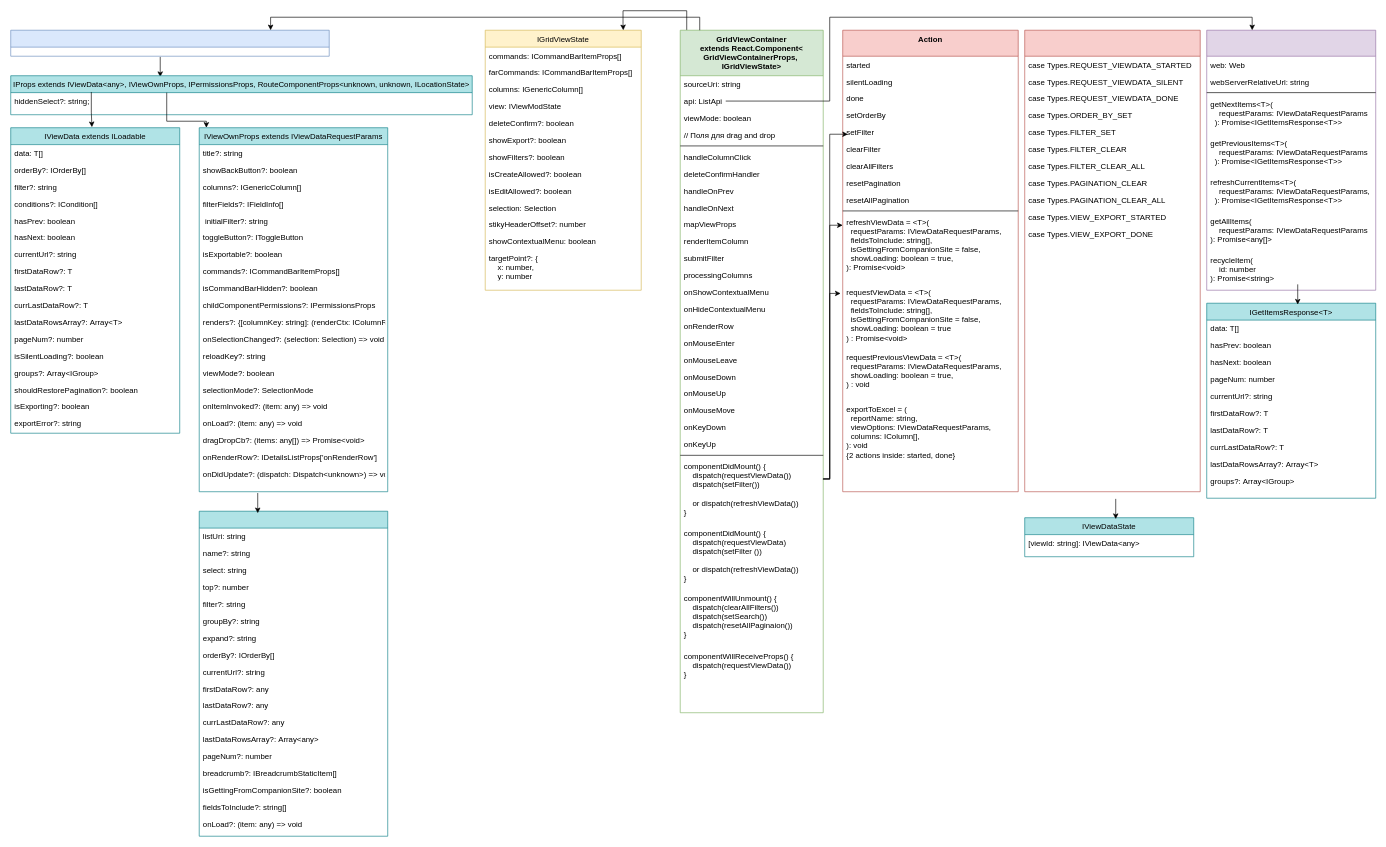
Image size: 1386x847. Some labels were removed from this diagram. Here are the shapes that lost their labels. From the top down, the box of each, then its label:
(10, 30, 329, 56): type GridViewContainerProps = IProps & IWithDispatched & WrappedComponentProps)
(1206, 30, 1376, 290): ListAPI (in Operation.ts)
(1024, 30, 1200, 492): Reducer: IViewDataState
(199, 511, 388, 836): IViewDataRequestParams
